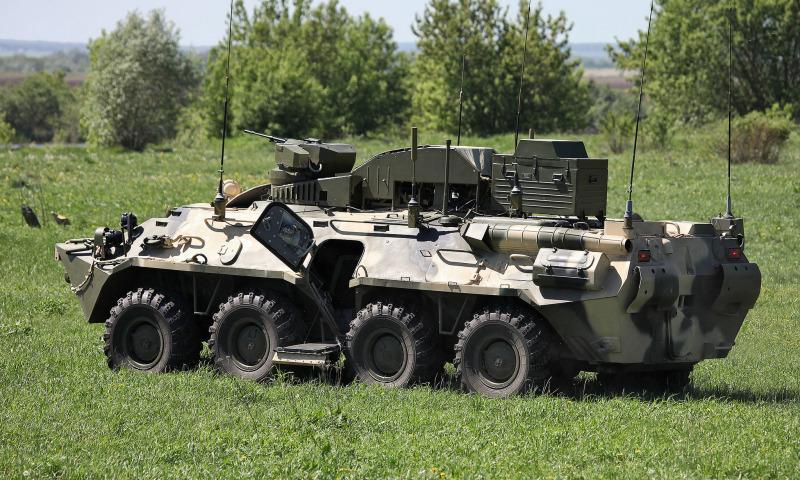tank: (55, 125, 762, 399)
